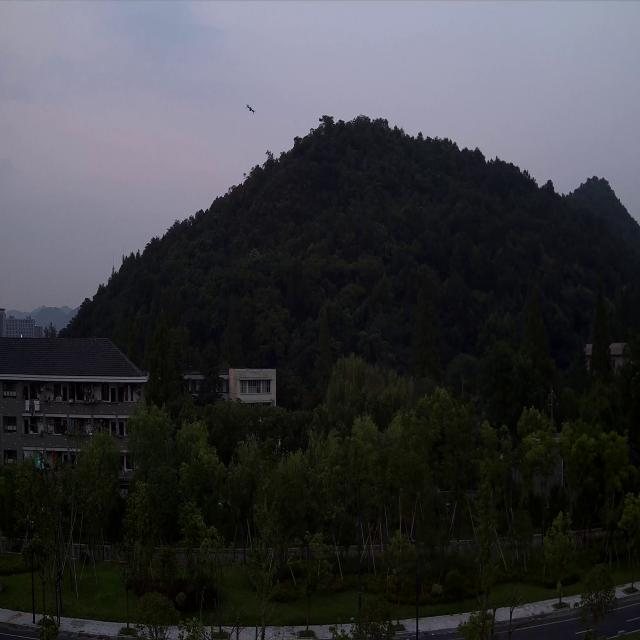UAV: (246, 102, 256, 115)
